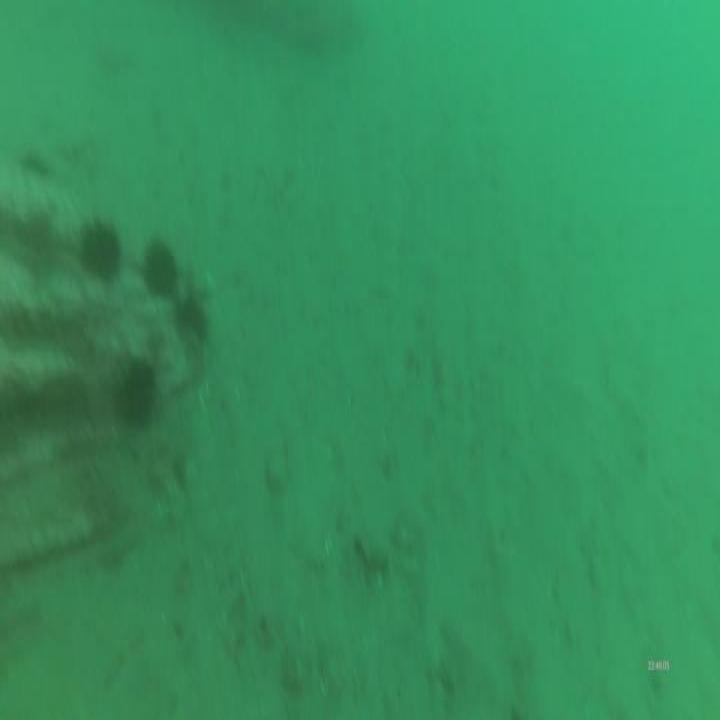echinus: (112, 350, 159, 428), (78, 210, 125, 288), (140, 233, 179, 306), (172, 292, 212, 356), (15, 144, 50, 183)
